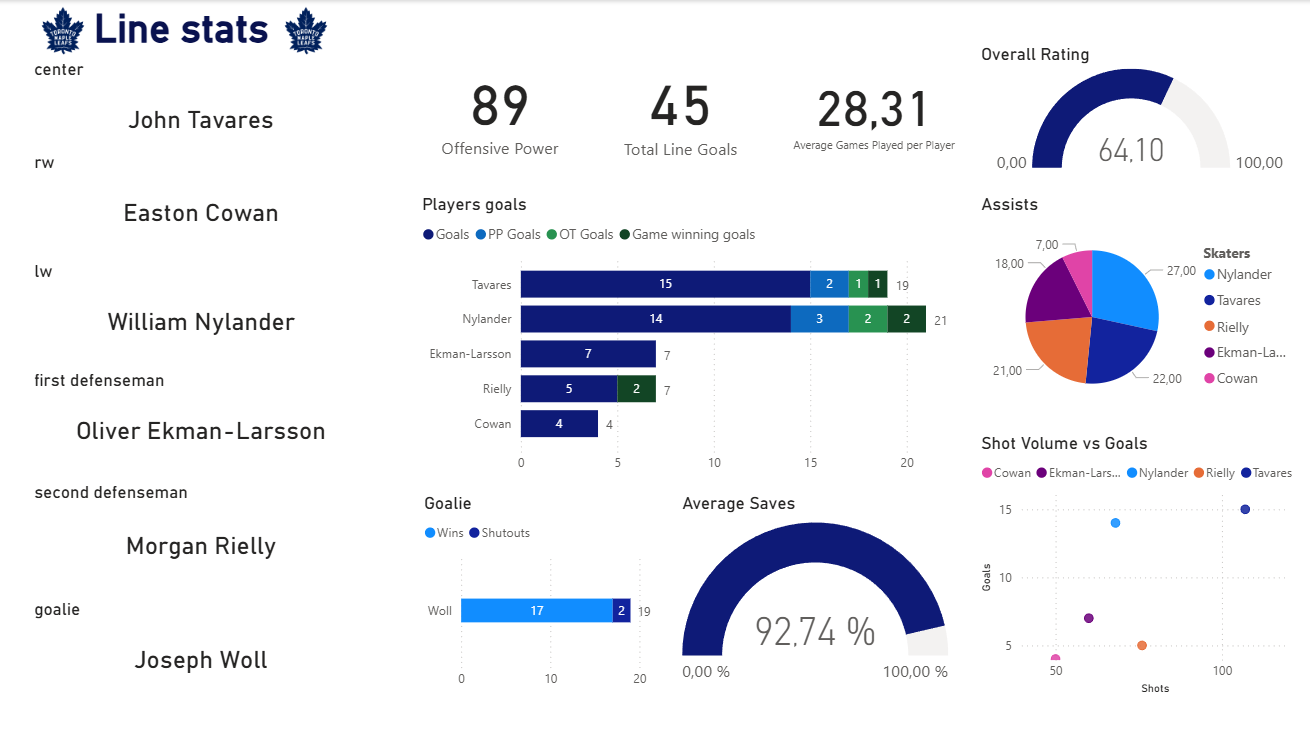

The dashboard page shown, as its layout file describes it:
{"tool":"powerbi","page":{"name":"line stats","canvas":[1280,720],"ordinal":1},"visuals":[{"type":"card","title":"first defenseman","fields":{"Values":["Min(defensas 2.Personalizado)"]},"box":[30.9,360.2,334.9,97],"z":0},{"type":"card","title":"second defenseman","fields":{"Values":["Min(defensa 1.Personalizado)"]},"box":[30.9,468.5,334.9,101.5],"z":1000},{"type":"card","title":"lw","fields":{"Values":["Min(Tabla_Ala_Izquierda.Personalizado)"]},"box":[30.9,254.2,334.9,97],"z":2000},{"type":"card","title":"rw","fields":{"Values":["Min(Tabla_Ala_Derecha.Personalizado)"]},"box":[30.9,148.2,334.9,97],"z":3000},{"type":"card","title":"goalie","fields":{"Values":["Min(goaliess.Personalizado)"]},"box":[30.9,582.4,334.9,97],"z":4000},{"type":"advancedSlicerVisual","title":"GOALIES","fields":{"Values":["goaliess.Personalizado"]},"box":[18.5,-0.7,12.4,16.9],"z":5000},{"type":"advancedSlicerVisual","title":"DF2","fields":{"Values":["defensa 1.Personalizado"]},"box":[0,0,12.4,18],"z":6000},{"type":"advancedSlicerVisual","title":"DF1 ","fields":{"Values":["defensas.Personalizado"]},"box":[0,0,12.4,12.4],"z":7000},{"type":"advancedSlicerVisual","title":"RW","fields":{"Values":["Tabla_Ala_Derecha.Personalizado"]},"box":[0,0,12.6,12.6],"z":8000},{"type":"advancedSlicerVisual","title":"LW","fields":{"Values":["Tabla_Ala_Izquierda.Personalizado"]},"box":[5.6,0,12.4,16.9],"z":9000},{"type":"advancedSlicerVisual","title":"C","fields":{"Values":["Tabla_Centro.Personalizado"]},"box":[0,0,12.6,18.5],"z":10000},{"type":"card","title":"center","fields":{"Values":["Min(Tabla_Centro.Personalizado)"]},"box":[31.1,57.4,334.6,97.3],"z":11000},{"type":"card","fields":{"Values":["leafs.Poder Ofensivo 1"]},"box":[408.9,43.2,161.6,125.9],"z":12000},{"type":"card","fields":{"Values":["leafs.Total Goles Linea"]},"box":[580.5,43.2,168.8,127.3],"z":13000},{"type":"barChart","title":"Players goals","fields":{"Y":["Sum(current stats.skaters.goals)","Sum(current stats.skaters.powerPlayGoals)","Sum(current stats.skaters.overtimeGoals)","Sum(current stats.skaters.gameWinningGoals)"],"Category":["now skaters.skaters.lastName.default"]},"box":[408.9,189,530.6,280.3],"z":14000},{"type":"barChart","title":"Goalie ","fields":{"Y":["Sum(current stats.goalies.wins)","Sum(current stats.goalies.shutouts)"],"Category":["goaliess.lastname"]},"box":[410.9,479.5,237.4,198.8],"z":15000},{"type":"gauge","title":"Average Saves","fields":{"Y":["Avg(now goalies.goalies.savePercentage)"]},"box":[661.1,479.5,268.9,198.8],"z":16000},{"type":"card","fields":{"Values":["Avg(now skaters.skaters.gamesPlayed)"]},"box":[766.4,42.8,173.1,128.4],"z":17000},{"type":"gauge","fields":{"Y":["leafs.Overall Rating"]},"box":[952.2,42.8,319,130.3],"z":18000},{"type":"pieChart","title":"Assists","fields":{"Y":["Avg(now skaters.skaters.assists)"],"Category":["now skaters.skaters.lastName.default"]},"box":[952.4,189,318.9,220.2],"z":19000},{"type":"scatterChart","title":"Shot Volume vs Goals","fields":{"Y":["now skaters.skaters.goals"],"X":["now skaters.skaters.shots"],"Series":["now skaters.skaters.lastName.default"]},"box":[952.4,420.7,318.9,258.9],"z":20000},{"type":"shape","box":[0,0,41.8,28.2],"z":20001},{"type":"textbox","box":[89.5,0,194.5,59.3],"z":20003},{"type":"image","box":[267.5,0,65.2,60.3],"z":20004},{"type":"image","box":[31.1,0,65.2,60.3],"z":20005}]}

Visuals, with their boxes in screenshot pixels (x1, y1, x2, y2), scaled from the page's 1280x720 canvas onto the 1310x733 screenshot:
"first defenseman" card: [left=32, top=367, right=374, bottom=465]
"second defenseman" card: [left=32, top=477, right=374, bottom=580]
"lw" card: [left=32, top=259, right=374, bottom=358]
"rw" card: [left=32, top=151, right=374, bottom=250]
"goalie" card: [left=32, top=593, right=374, bottom=692]
"GOALIES" advancedSlicerVisual: [left=19, top=0, right=32, bottom=16]
"DF2" advancedSlicerVisual: [left=0, top=0, right=13, bottom=18]
"DF1 " advancedSlicerVisual: [left=0, top=0, right=13, bottom=13]
"RW" advancedSlicerVisual: [left=0, top=0, right=13, bottom=13]
"LW" advancedSlicerVisual: [left=6, top=0, right=18, bottom=17]
"C" advancedSlicerVisual: [left=0, top=0, right=13, bottom=19]
"center" card: [left=32, top=58, right=374, bottom=157]
card - leafs.Poder Ofensivo 1: [left=418, top=44, right=584, bottom=172]
card - leafs.Total Goles Linea: [left=594, top=44, right=767, bottom=174]
"Players goals" barChart: [left=418, top=192, right=962, bottom=478]
"Goalie " barChart: [left=421, top=488, right=663, bottom=691]
"Average Saves" gauge: [left=677, top=488, right=952, bottom=691]
card - Avg(now skaters.skaters.gamesPlayed): [left=784, top=44, right=962, bottom=174]
gauge - leafs.Overall Rating: [left=975, top=44, right=1301, bottom=176]
"Assists" pieChart: [left=975, top=192, right=1301, bottom=417]
"Shot Volume vs Goals" scatterChart: [left=975, top=428, right=1301, bottom=692]
shape: [left=0, top=0, right=43, bottom=29]
textbox: [left=92, top=0, right=291, bottom=60]
image: [left=274, top=0, right=340, bottom=61]
image: [left=32, top=0, right=99, bottom=61]
